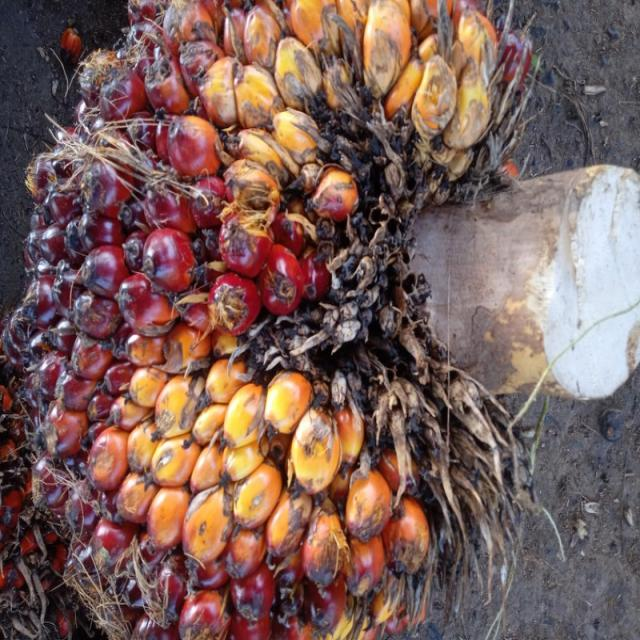fraksi 1: (5, 44, 625, 627)
